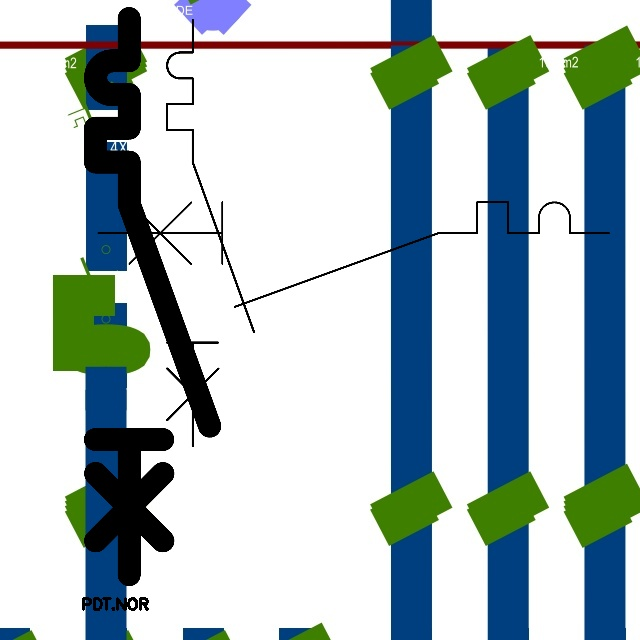interruptor_termomagnetico: (81, 4, 224, 589), (85, 189, 622, 320), (156, 9, 265, 457)
